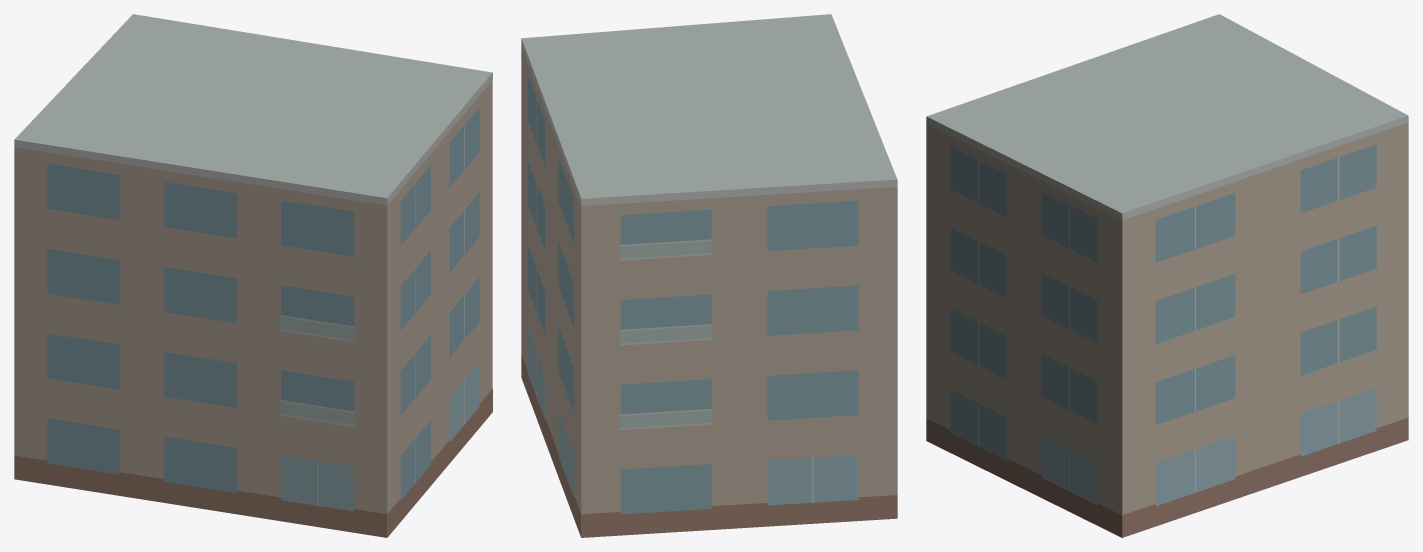
The model's file is survey-upis-32746254.glb.
The picture shows the model from 3 angles, left to right: view 1: azimuth 30°, elevation 25°; view 2: azimuth 150°, elevation 25°; view 3: azimuth 270°, elevation 25°; orthographic projection. The views are drawn at different scales.
Visible parts, largest first — view 1: survey-upis-32746254.tmp; view 2: survey-upis-32746254.tmp; view 3: survey-upis-32746254.tmp.
Part boxes in pixels (x1,y1,x2,y2): survey-upis-32746254.tmp: (14, 14, 492, 537); survey-upis-32746254.tmp: (521, 14, 897, 537); survey-upis-32746254.tmp: (926, 14, 1408, 537).
Bounding box in the file's own units: 14.9 × 11.3 × 15.22.
